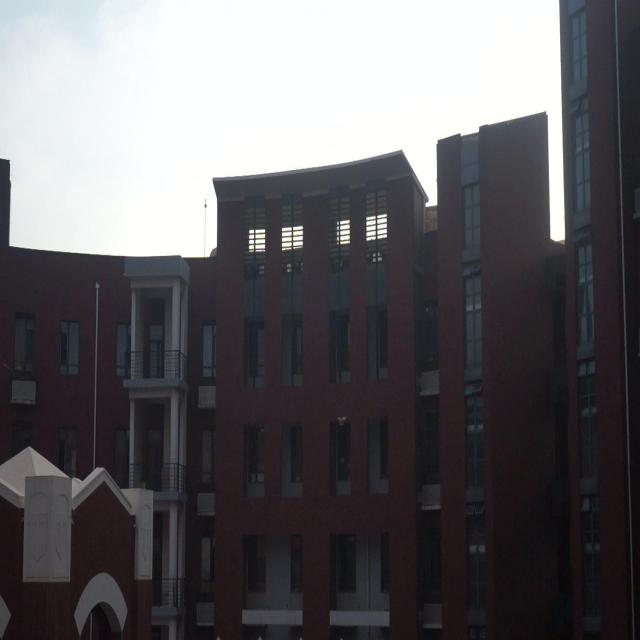UAV: (337, 416, 347, 426)
